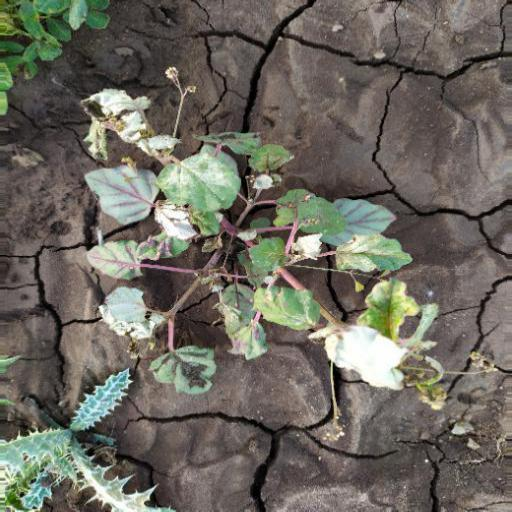weed: (84, 84, 451, 403), (1, 369, 180, 512)
